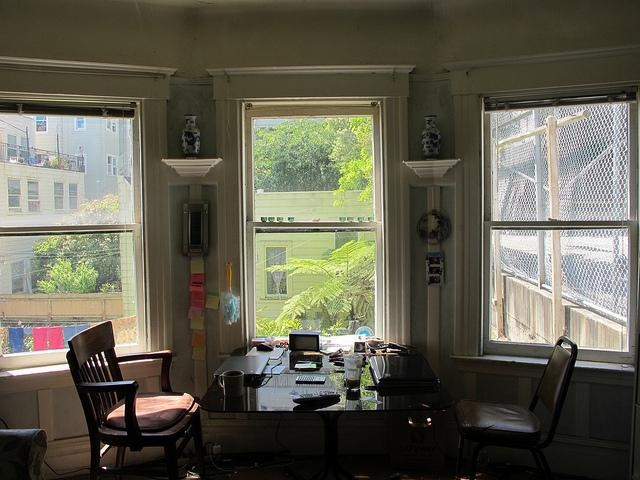phone: (292, 369, 330, 385)
tv: (367, 347, 444, 388)
